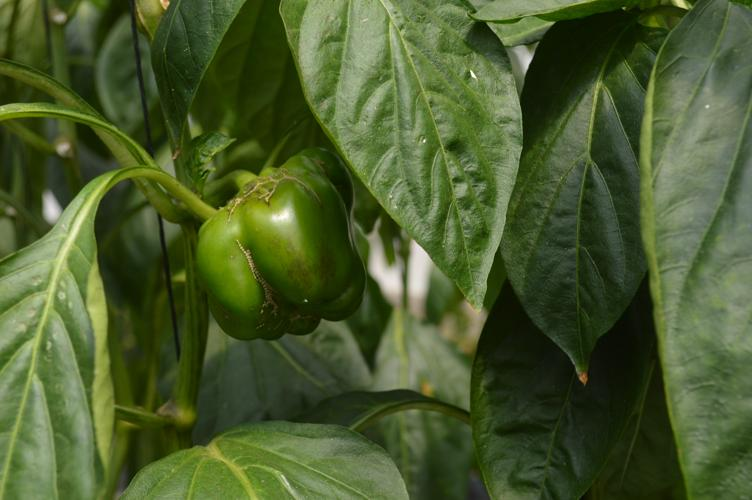BellPepper: (192, 149, 371, 332)
